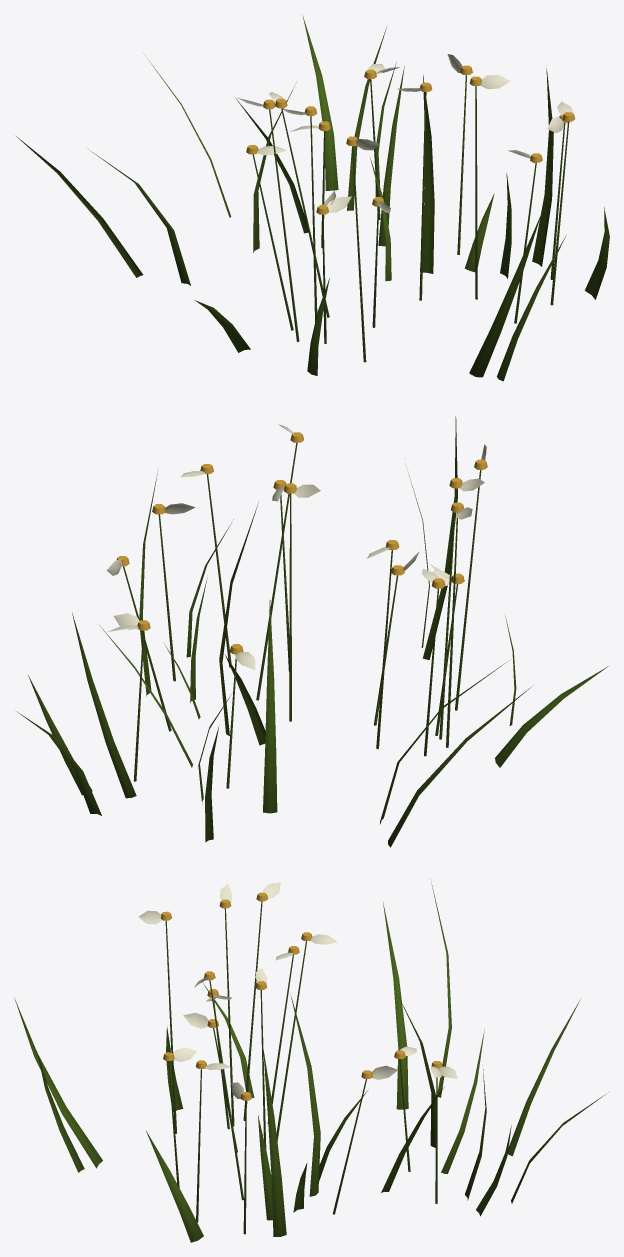
File: meadow_flowers_lod2.gltf
The picture shows the model from 3 angles, top to bottom: view 1: azimuth 30°, elevation 25°; view 2: azimuth 150°, elevation 25°; view 3: azimuth 270°, elevation 25°; orthographic projection. The views are drawn at different scales.
Visible parts, largest first — view 1: meadow_flowers_lod2; view 2: meadow_flowers_lod2; view 3: meadow_flowers_lod2.
Part boxes in pixels (left/top/right/bottom): meadow_flowers_lod2: left=16, top=15, right=609, bottom=381; meadow_flowers_lod2: left=16, top=416, right=609, bottom=847; meadow_flowers_lod2: left=14, top=879, right=608, bottom=1242.
Bounding box in the file's own units: 0.8128 × 0.4238 × 1.01.
3 materials, 1 textured.
